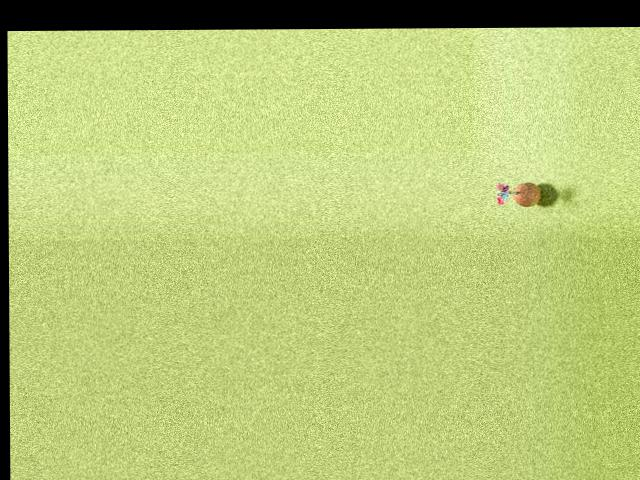egg: (513, 182, 541, 206)
